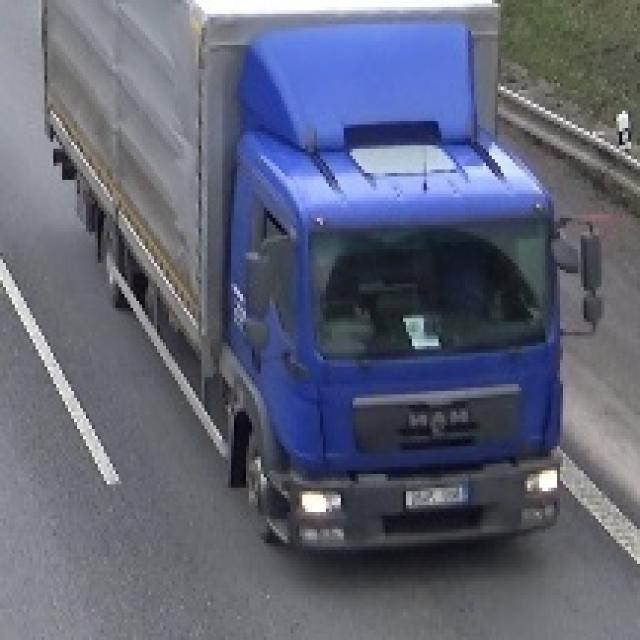truck: (39, 0, 602, 554)
